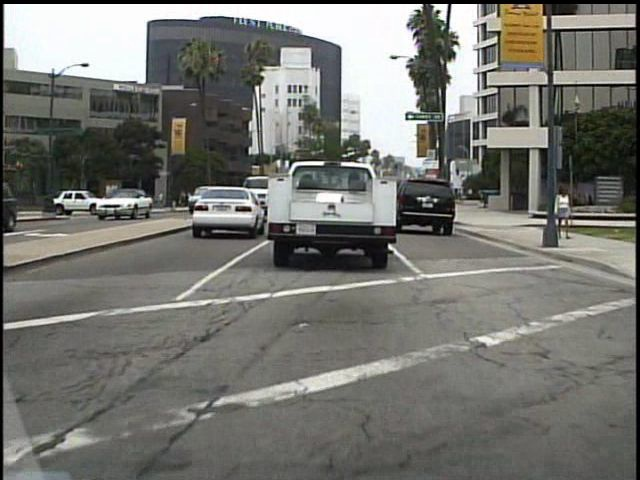person: (554, 178, 575, 245), (116, 181, 131, 217), (114, 190, 128, 220), (159, 188, 167, 213)
